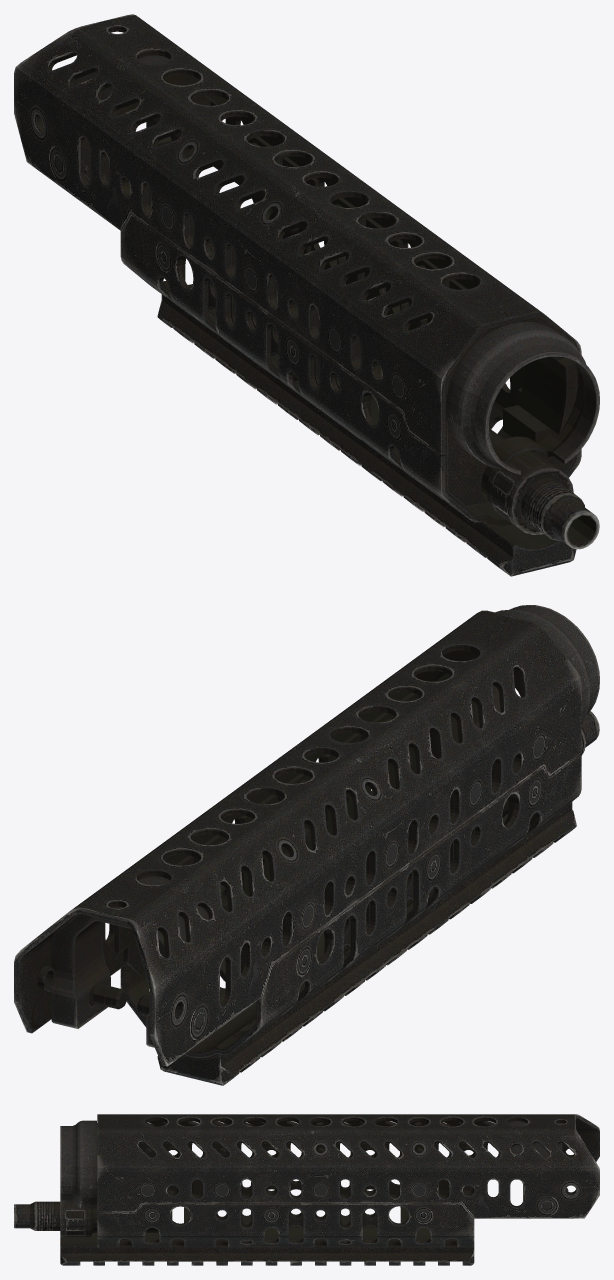
3 views of the same model, one above another, from view 1: azimuth 30°, elevation 25°; view 2: azimuth 150°, elevation 25°; view 3: azimuth 270°, elevation 25° (orthographic). The views are drawn at different scales.
Visible parts, largest first — view 1: TW_5b7bee755acfc400196d5383_PZ_Import; view 2: TW_5b7bee755acfc400196d5383_PZ_Import; view 3: TW_5b7bee755acfc400196d5383_PZ_Import.
Boxes of the visible parts, x1,y1,x2,y2 form: TW_5b7bee755acfc400196d5383_PZ_Import: [14, 14, 599, 576]; TW_5b7bee755acfc400196d5383_PZ_Import: [14, 605, 599, 1085]; TW_5b7bee755acfc400196d5383_PZ_Import: [14, 1114, 599, 1265].
Size of the model in its own units: 0.0224 by 0.1374 by 0.035.
1 material, 1 textured.
